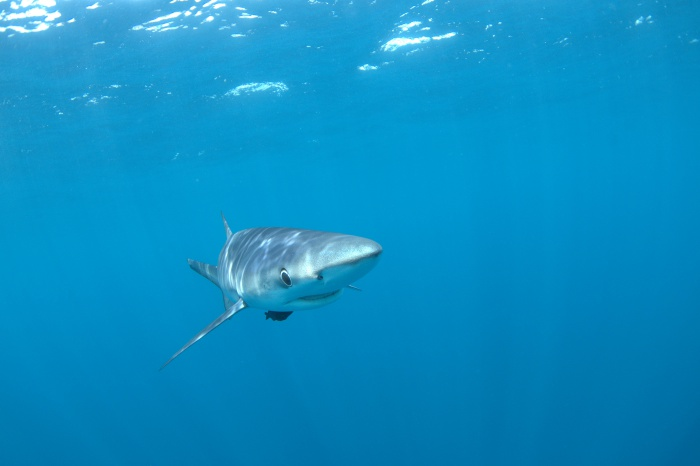Azul: (172, 195, 415, 353)
